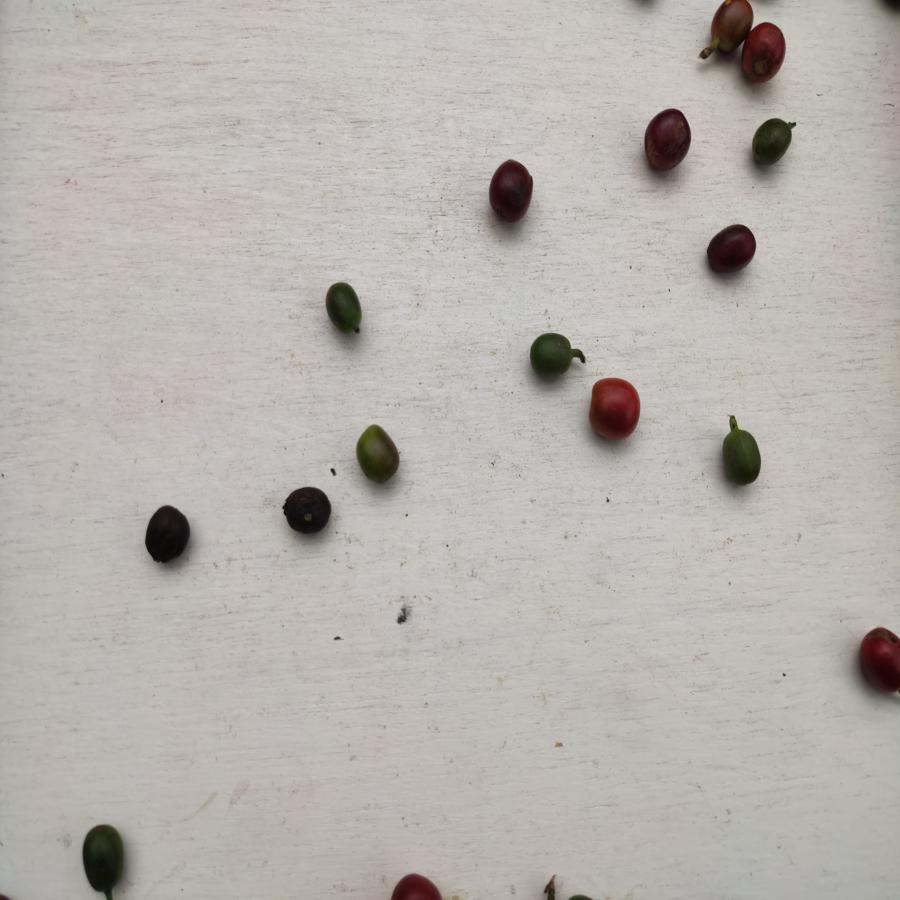Inmaduro: (81, 823, 126, 895), (715, 427, 762, 492), (524, 330, 577, 384), (751, 113, 795, 171), (324, 282, 366, 340)
Maduro: (588, 373, 643, 444), (855, 622, 900, 699), (741, 20, 792, 84)
Pinton: (355, 425, 401, 488)
Sobremaduro: (638, 107, 698, 174), (141, 504, 195, 567), (279, 484, 337, 537), (489, 155, 533, 224), (706, 220, 757, 278), (708, 1, 741, 60)
